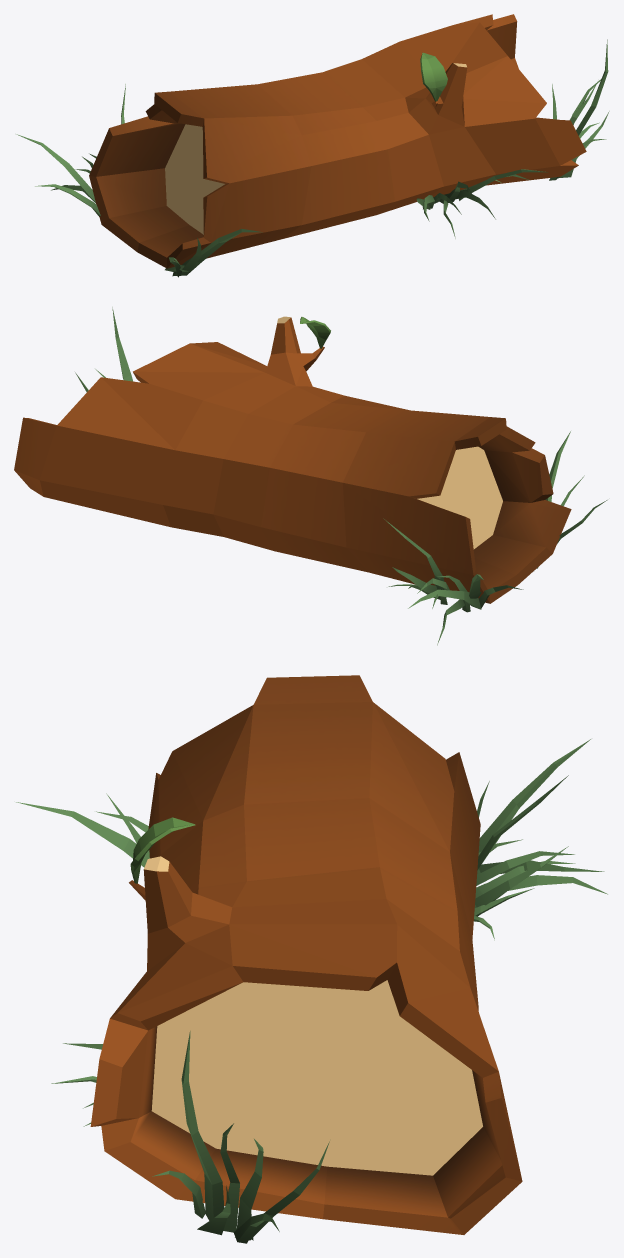
The model's file is TreeLog_B-01.FBX.
The picture shows the model from 3 angles, top to bottom: view 1: azimuth 30°, elevation 25°; view 2: azimuth 150°, elevation 25°; view 3: azimuth 270°, elevation 25°; orthographic projection. The views are drawn at different scales.
Visible parts, largest first — view 1: TreeLog_B-01; view 2: TreeLog_B-01; view 3: TreeLog_B-01.
Part boxes in pixels (<box>): TreeLog_B-01: <box>16,14,609,277</box>; TreeLog_B-01: <box>14,307,607,645</box>; TreeLog_B-01: <box>16,675,607,1243</box>.
Bounding box in the file's own units: 266 × 88.71 × 157.
1 material, 1 textured.
